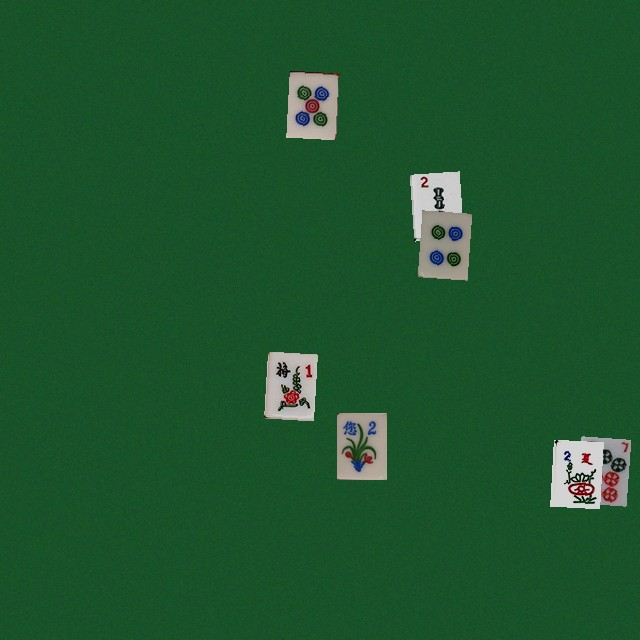tile: (336, 412, 386, 479), (576, 436, 626, 503), (264, 351, 314, 418), (409, 171, 459, 238), (286, 70, 336, 137), (417, 210, 467, 277), (550, 439, 600, 506)
